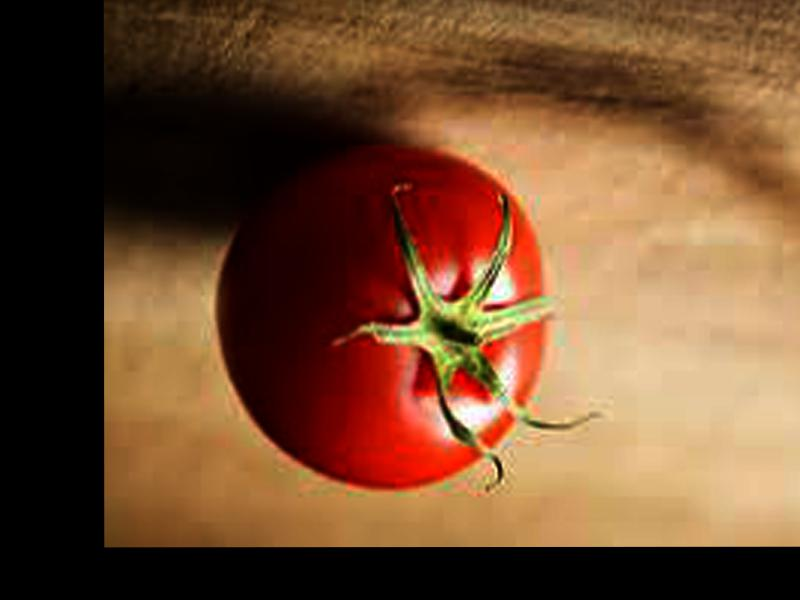Tomato: (219, 147, 550, 483)
